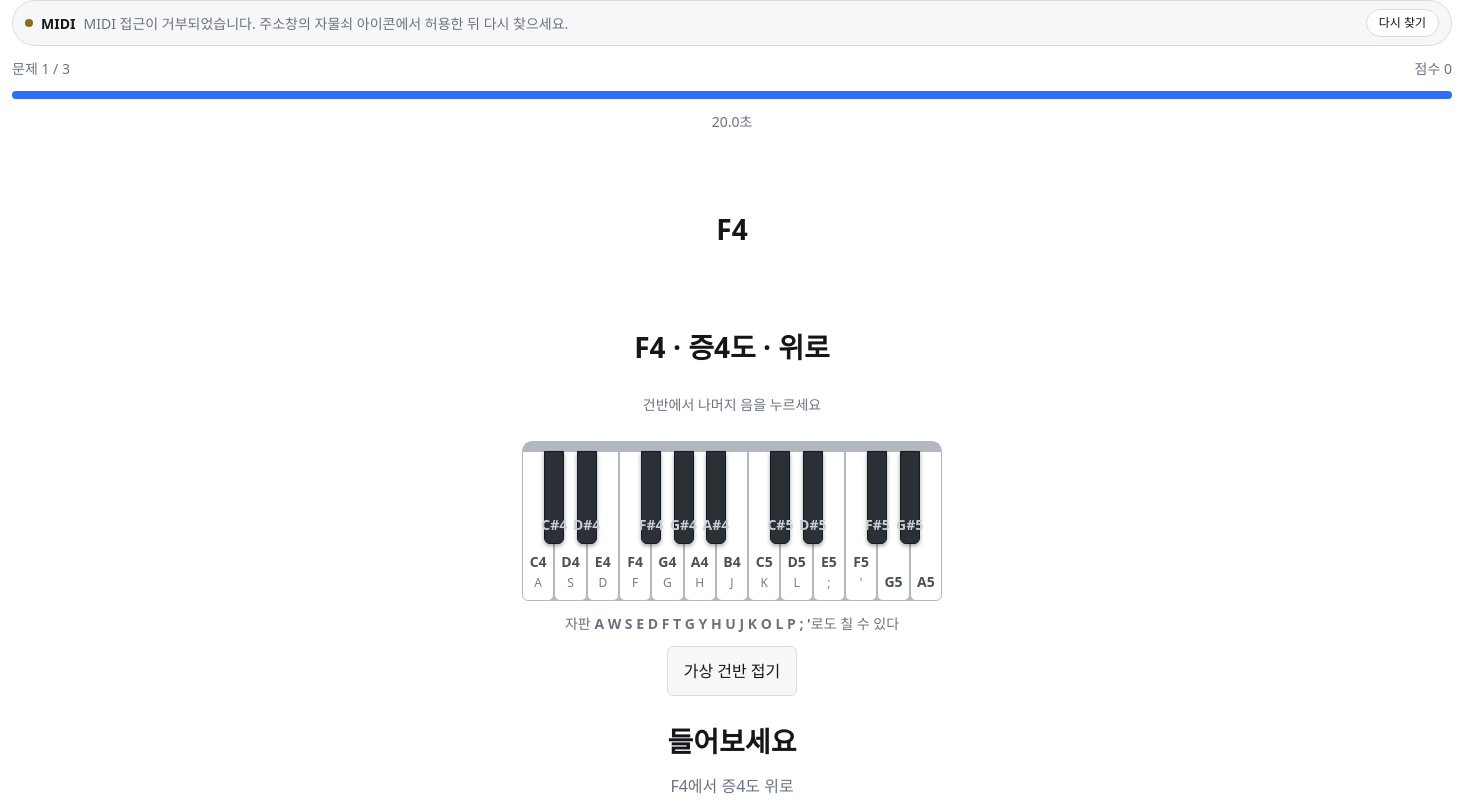
Test: 음정 해석 — 건반으로 음을 쌓는다 › 조건이 가리키는 음을 누르면 정답
This screenshot has width=1464, height=810.
Press the mouse on the button "B4 J": (732, 526) [716, 451, 748, 601]
Wait 2550 ms
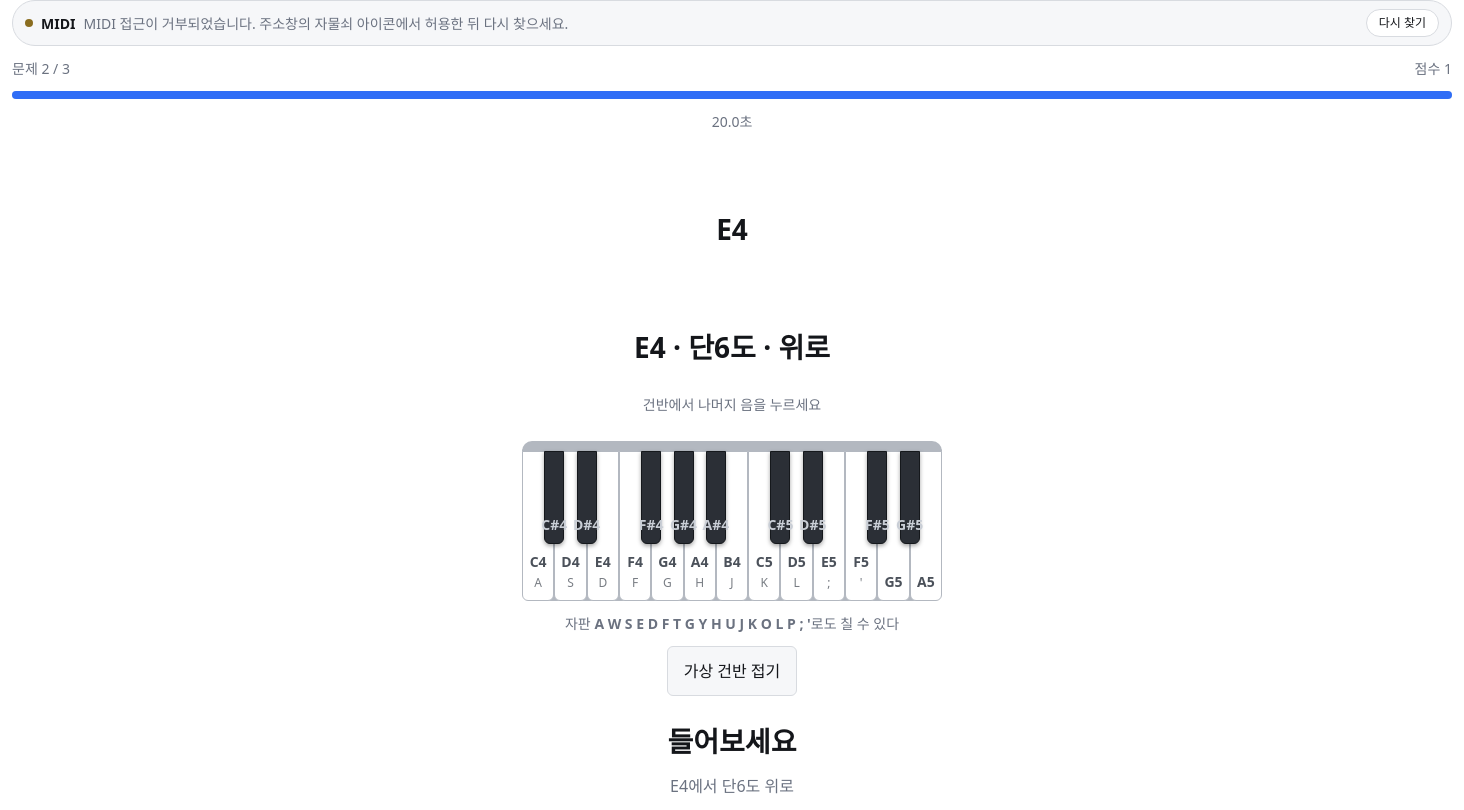
Check: the text "정답" is shown, box [668, 722, 796, 760]
Press the mouse on the button "C5 K": (764, 526) [748, 451, 780, 601]
Wait 2550 ms
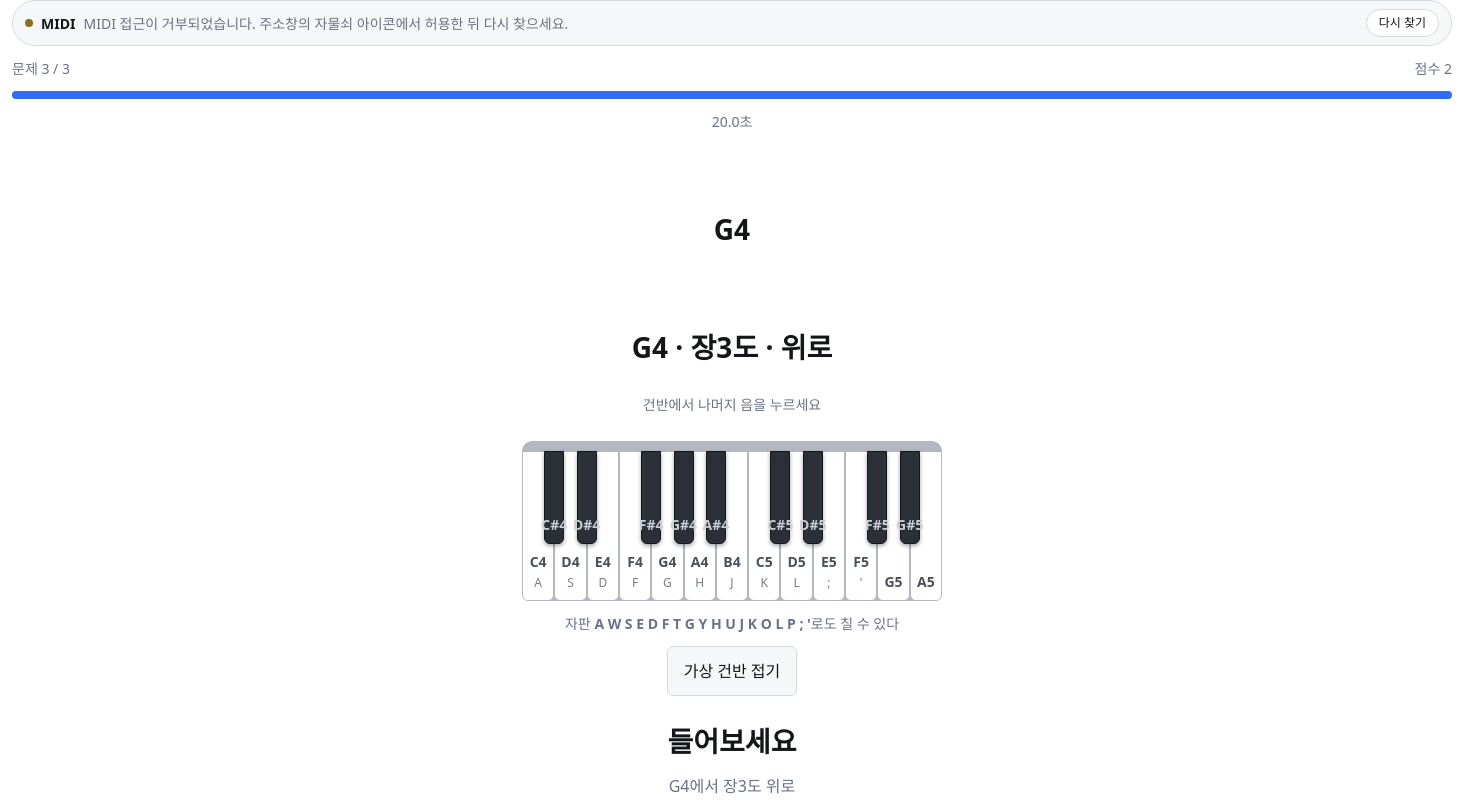
Check: the text "정답" is shown, box [668, 722, 796, 760]
Press the mouse on the button "B4 J": (732, 526) [716, 451, 748, 601]
Wait 2300 ms
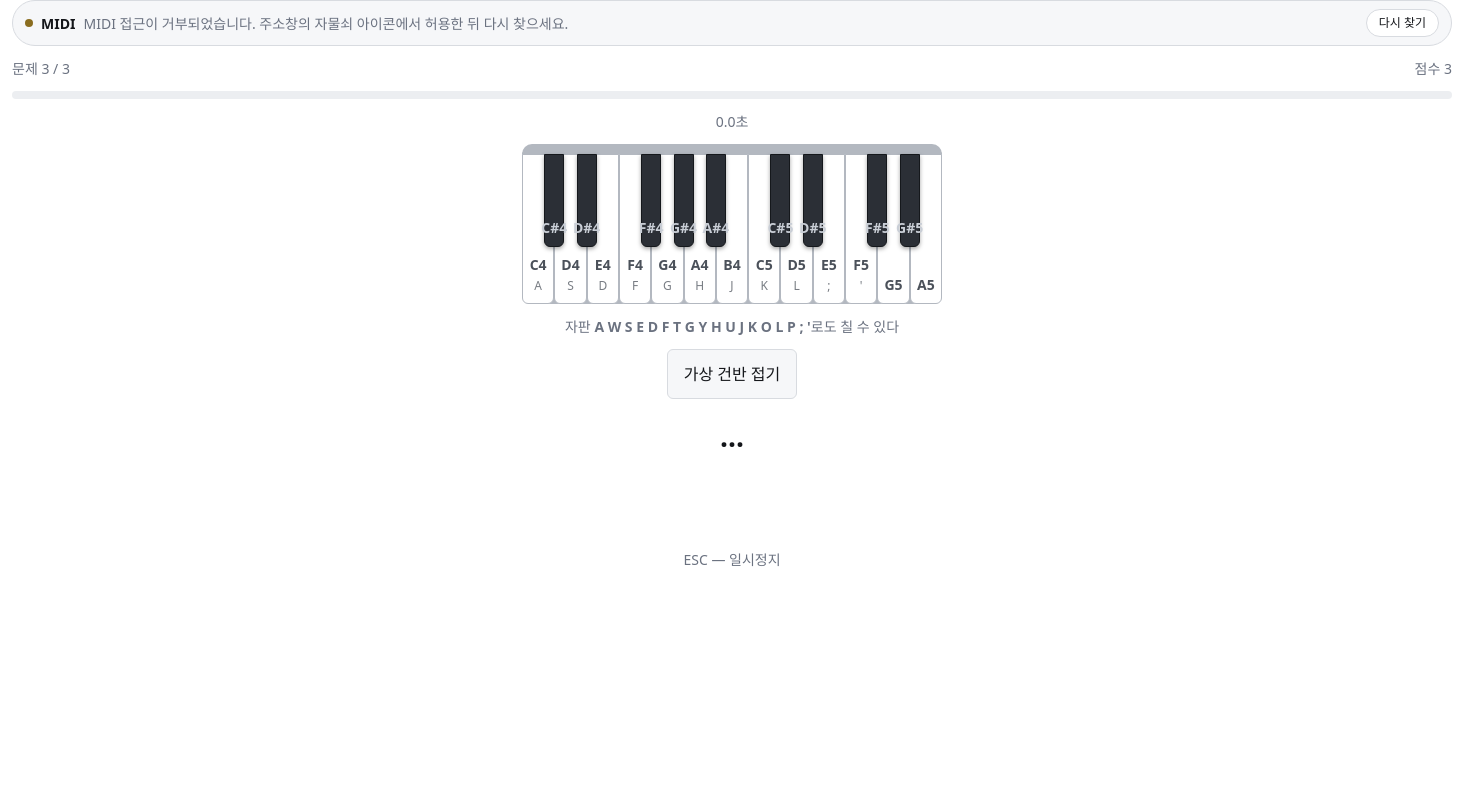
Check: the text "정답" is shown, box [720, 425, 744, 463]
Check: the text "점수 3" is shown, box [1415, 58, 1452, 79]
